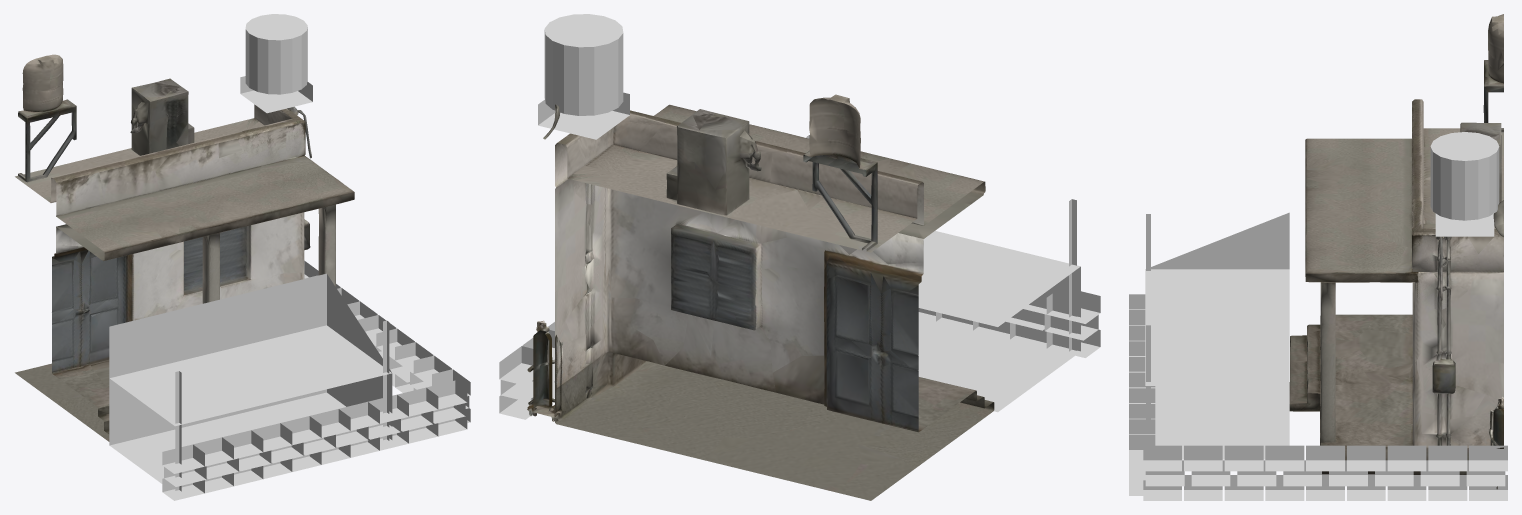
Rendered from militia_field_clinic.glb.
3 views of the same model, side by side, from view 1: azimuth 30°, elevation 25°; view 2: azimuth 150°, elevation 25°; view 3: azimuth 270°, elevation 25° (orthographic). The views are drawn at different scales.
Visible parts, largest first — view 1: wall, dome, wood, trim, rust, roof, metal, glass; view 2: wall, dome, rust, roof, trim, glass, wood, metal; view 3: dome, trim, wall, wood, rust, roof, metal, glass.
Part boxes in pixels (x1,y1,x2,y2): wall: (15, 56, 354, 441); dome: (109, 273, 392, 493); wood: (162, 260, 470, 500); trim: (52, 106, 353, 434); rust: (175, 14, 389, 491); roof: (15, 118, 264, 312); metal: (18, 54, 188, 145); glass: (52, 245, 132, 430); wall: (529, 98, 994, 500); dome: (918, 231, 1080, 412); rust: (538, 14, 1076, 352); roof: (567, 144, 916, 349); trim: (528, 104, 993, 431); glass: (527, 242, 984, 419); wood: (499, 291, 1100, 419); metal: (555, 94, 877, 198); dome: (1145, 212, 1289, 459); trim: (1289, 99, 1503, 446); wall: (1289, 17, 1503, 489); wood: (1129, 294, 1507, 500); rust: (1146, 132, 1499, 419); roof: (1423, 128, 1503, 228); metal: (1460, 14, 1503, 201); glass: (1320, 316, 1503, 448).
Size of the model in its own units: 6.12 by 5.99 by 6.05.
Materials: 1 (1 with a texture image).
